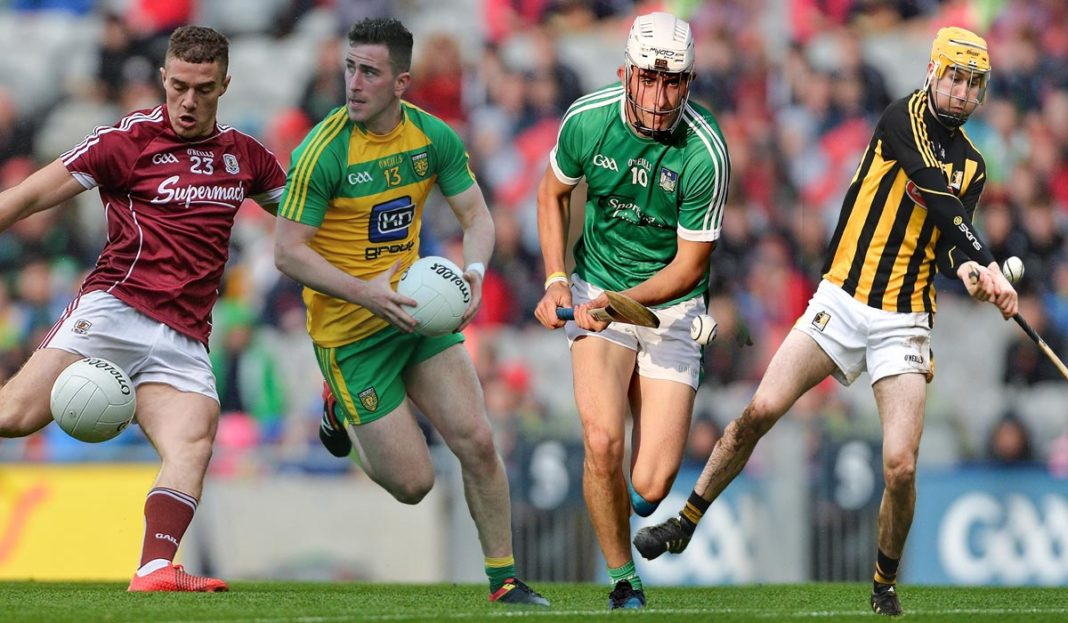ball: (392, 252, 475, 335), (54, 365, 133, 444), (691, 314, 715, 342), (1001, 258, 1023, 279)
player: (288, 13, 527, 518), (804, 0, 1018, 535), (534, 8, 706, 540), (87, 25, 232, 544)
